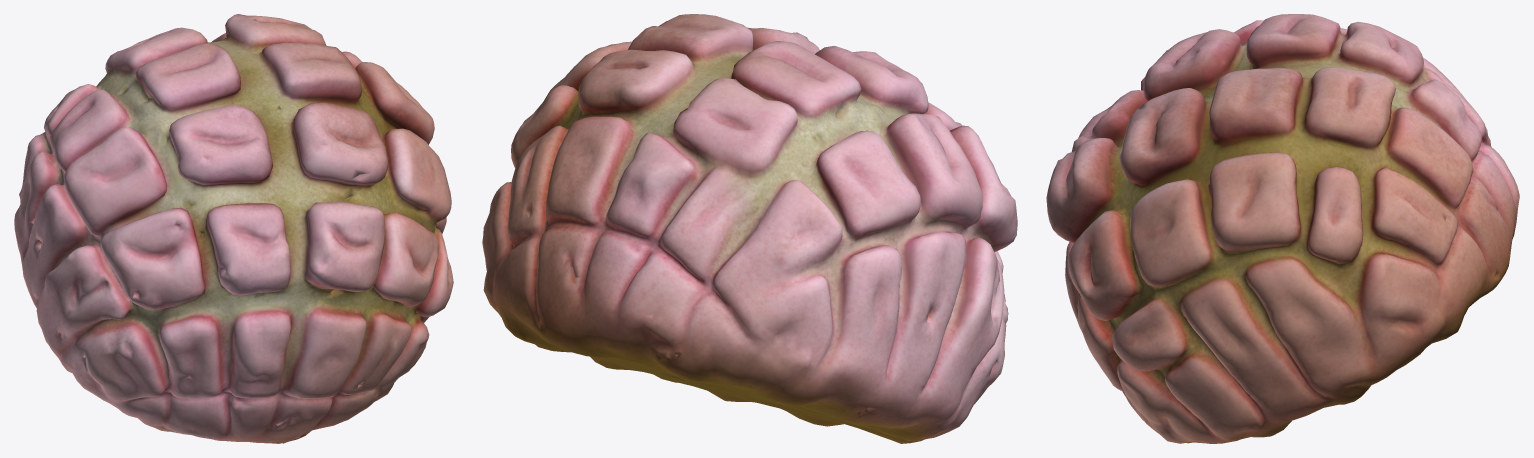
File: Stack 1B - Concha.glb
The picture shows the model from 3 angles, left to right: view 1: azimuth 30°, elevation 25°; view 2: azimuth 150°, elevation 25°; view 3: azimuth 270°, elevation 25°; orthographic projection. The views are drawn at different scales.
Visible parts, largest first — view 1: Concha; view 2: Concha; view 3: Concha.
Boxes of the visible parts, x1,y1,x2,y2 form: Concha: (14, 14, 453, 443); Concha: (482, 14, 1017, 443); Concha: (1046, 14, 1519, 443).
Bounding box in the file's own units: 1 × 0.8901 × 1.01.
Materials: 1 (1 with a texture image).
